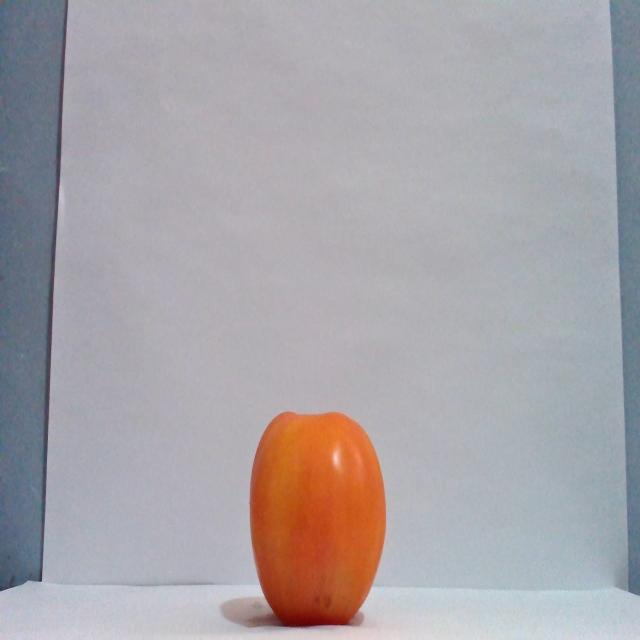Red: (247, 409, 387, 626)
